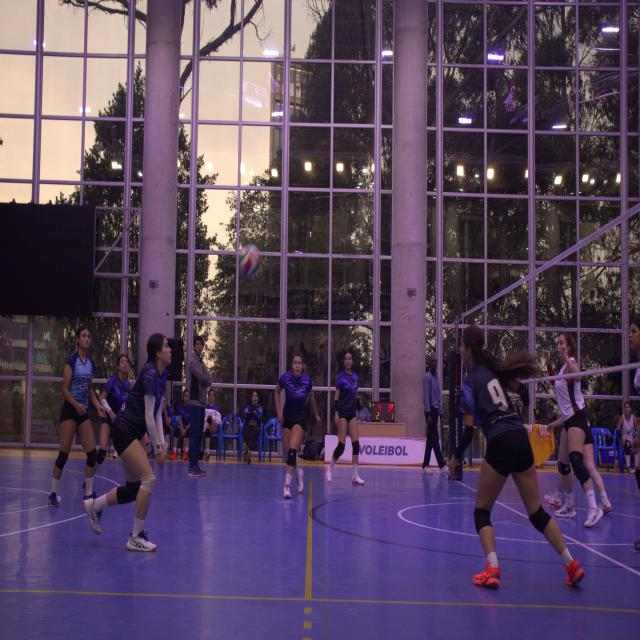volleyball: (238, 243, 260, 279)
